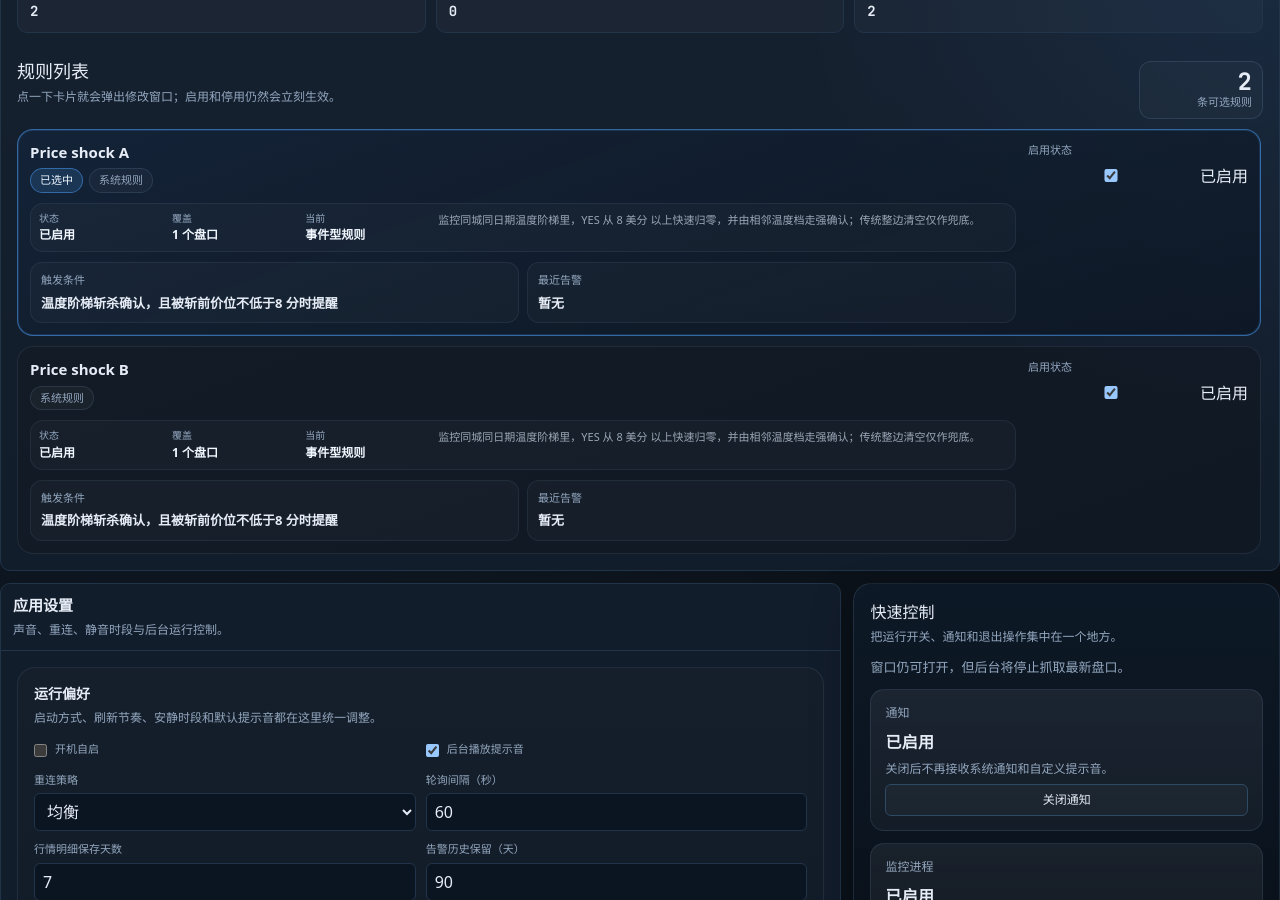
Test: RulesSettingsView behavior › opens the rule editor dialog when clicking a rule card
(page scrolled)
Click the button with class "rule-card" that starts with "Price shock B": (639, 450) [17,346,1261,554]
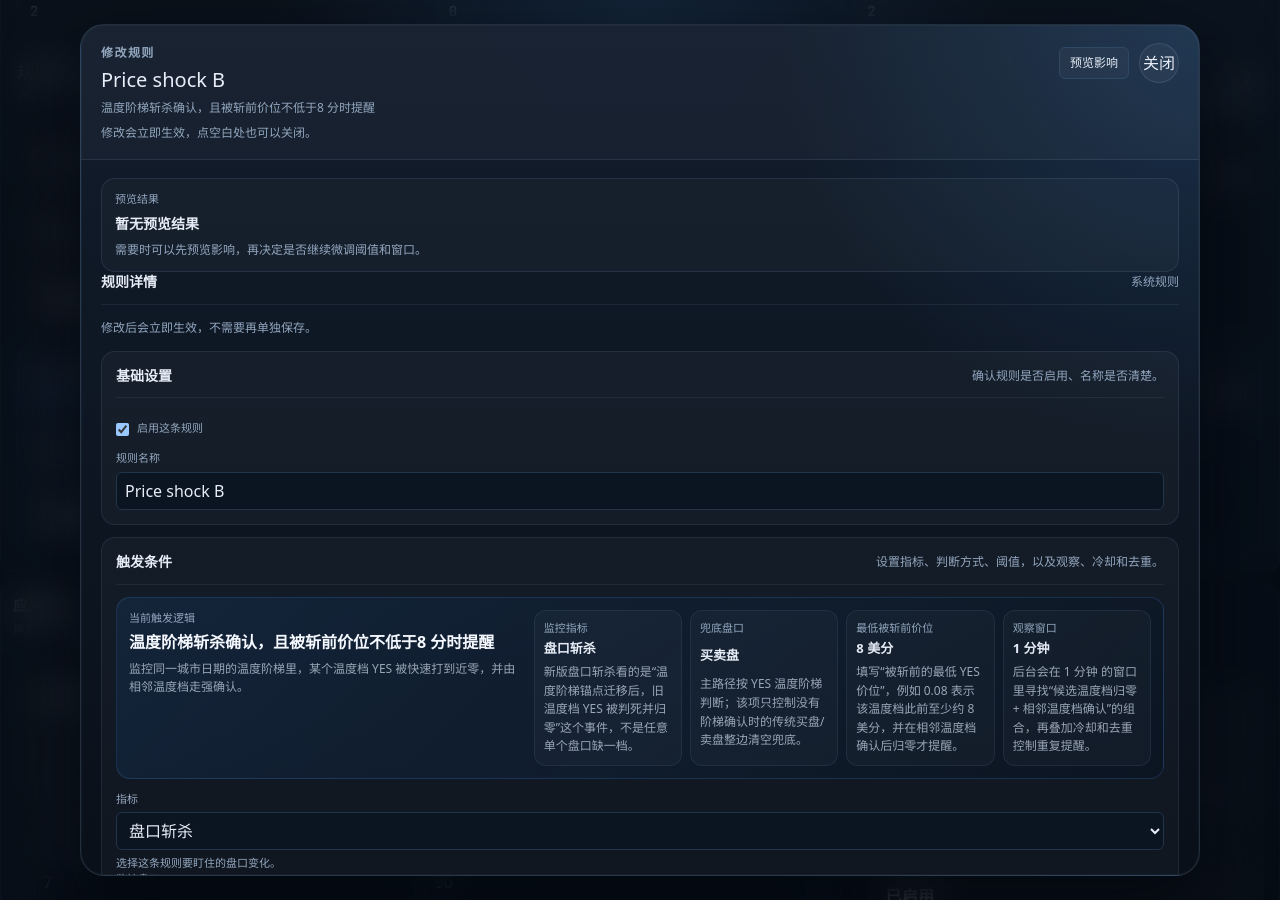
Expected: the dialog is shown
Expected: the dialog shows "Price shock B", [101,66,225,93]
